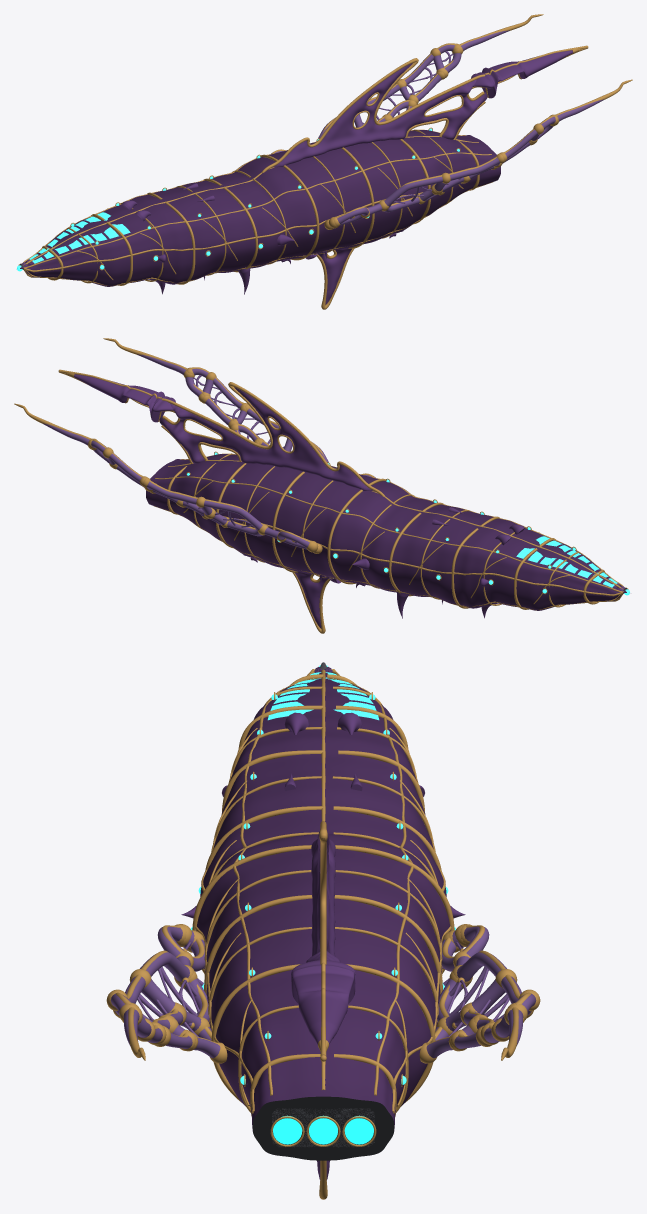
The model's file is model_v39_web.glb.
3 renders of one model, top to bottom at view 1: azimuth 30°, elevation 25°; view 2: azimuth 150°, elevation 25°; view 3: azimuth 270°, elevation 25°, orthographic. The views are drawn at different scales.
Parts seen in each view (by area): view 1: EXT__EXT_Hull, EXT__EXT_Copper, EXT__EXT_Blade__NC, EXT__EXT_Copper__NC, EXT__EXT_Wing, EXT__EXT_Wing__NC, EXT__EXT_Teal, EXT__EXT_Blade; view 2: EXT__EXT_Hull, EXT__EXT_Copper, EXT__EXT_Blade__NC, EXT__EXT_Copper__NC, EXT__EXT_Wing__NC, EXT__EXT_Wing, EXT__EXT_Teal; view 3: EXT__EXT_Hull, EXT__EXT_Copper, EXT__EXT_Blade__NC, EXT__EXT_Copper__NC, EXT__EXT_Wing, EXT__EXT_Wing__NC, EXT__INT_Dark, EXT__EXT_Teal, DRV__DRV_Glow__NC, INT_S__INT_Shell.
Boxes of the visible parts, x1=… form: EXT__EXT_Hull: x1=19, y1=130, x2=500, y2=286; EXT__EXT_Copper: x1=19, y1=79, x2=632, y2=286; EXT__EXT_Blade__NC: x1=22, y1=50, x2=573, y2=304; EXT__EXT_Copper__NC: x1=262, y1=14, x2=588, y2=309; EXT__EXT_Wing: x1=331, y1=99, x2=603, y2=227; EXT__EXT_Wing__NC: x1=271, y1=30, x2=509, y2=153; EXT__EXT_Teal: x1=29, y1=212, x2=130, y2=263; EXT__EXT_Blade: x1=23, y1=195, x2=403, y2=294; EXT__EXT_Hull: x1=146, y1=454, x2=627, y2=610; EXT__EXT_Copper: x1=103, y1=338, x2=627, y2=610; EXT__EXT_Blade__NC: x1=74, y1=374, x2=623, y2=628; EXT__EXT_Copper__NC: x1=14, y1=369, x2=384, y2=633; EXT__EXT_Wing__NC: x1=43, y1=423, x2=315, y2=551; EXT__EXT_Wing: x1=137, y1=354, x2=375, y2=477; EXT__EXT_Teal: x1=516, y1=536, x2=617, y2=587; EXT__EXT_Hull: x1=196, y1=667, x2=450, y2=1131; EXT__EXT_Copper: x1=106, y1=669, x2=454, y2=1116; EXT__EXT_Blade__NC: x1=291, y1=668, x2=465, y2=1180; EXT__EXT_Copper__NC: x1=318, y1=821, x2=540, y2=1199; EXT__EXT_Wing: x1=110, y1=926, x2=220, y2=1058; EXT__EXT_Wing__NC: x1=426, y1=926, x2=536, y2=1058; EXT__INT_Dark: x1=252, y1=1096, x2=394, y2=1160; EXT__EXT_Teal: x1=267, y1=672, x2=379, y2=720; DRV__DRV_Glow__NC: x1=309, y1=1115, x2=373, y2=1144; INT_S__INT_Shell: x1=272, y1=1108, x2=374, y2=1147.
Bounding box in the file's own units: 118 × 45.06 × 38.65.
